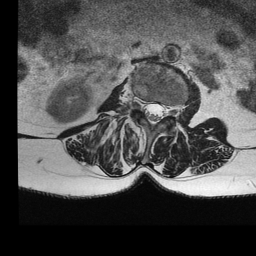CCS_normal: (150, 95, 157, 134)
LFS_normal: (166, 94, 175, 123)
LLS_normal: (158, 94, 166, 125)
RFS_normal: (133, 87, 142, 117)
RLS_normal: (142, 92, 150, 124)
